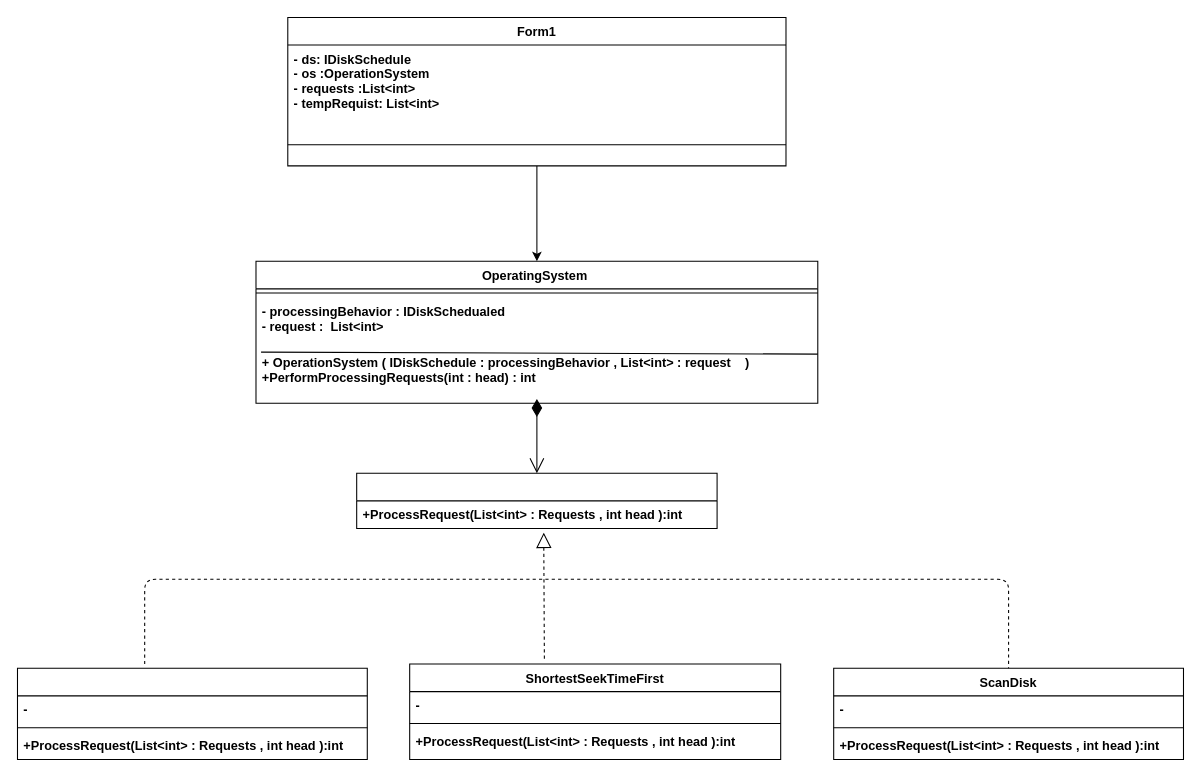
Image size: 1201x777. Some labels were removed from this diagram. The shapes that lost their labels are listed below. From the top down, each one's box as (x1, y1, x2, y2) in pixels, then its label:
(356, 472, 717, 528): IDiskSchedule
(16, 667, 367, 759): firstComeFirstServed
